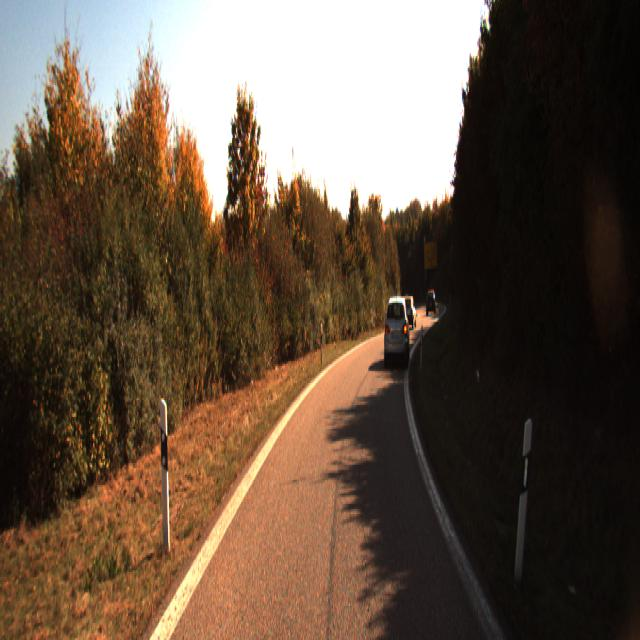Car: (383, 292, 410, 365), (400, 294, 414, 328), (426, 290, 436, 314)
